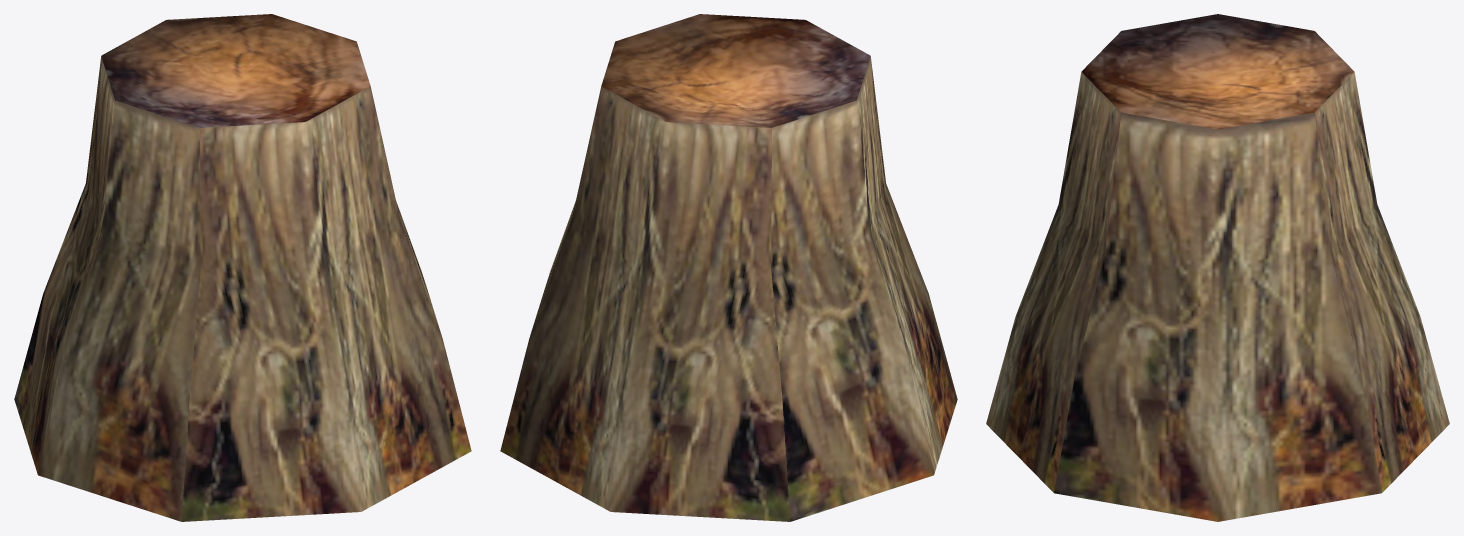
The model's file is swamp_trunk_2.FBX.
3 renders of one model, left to right at view 1: azimuth 30°, elevation 25°; view 2: azimuth 150°, elevation 25°; view 3: azimuth 270°, elevation 25°, orthographic. The views are drawn at different scales.
Parts seen in each view (by area): view 1: swamp_trunk_2; view 2: swamp_trunk_2; view 3: swamp_trunk_2.
Part boxes in pixels (box(x1,y1,x2,y2)): swamp_trunk_2: box(14, 14, 471, 521); swamp_trunk_2: box(500, 14, 957, 521); swamp_trunk_2: box(986, 14, 1449, 521).
Bounding box in the file's own units: 85.11 × 70.63 × 85.11.
